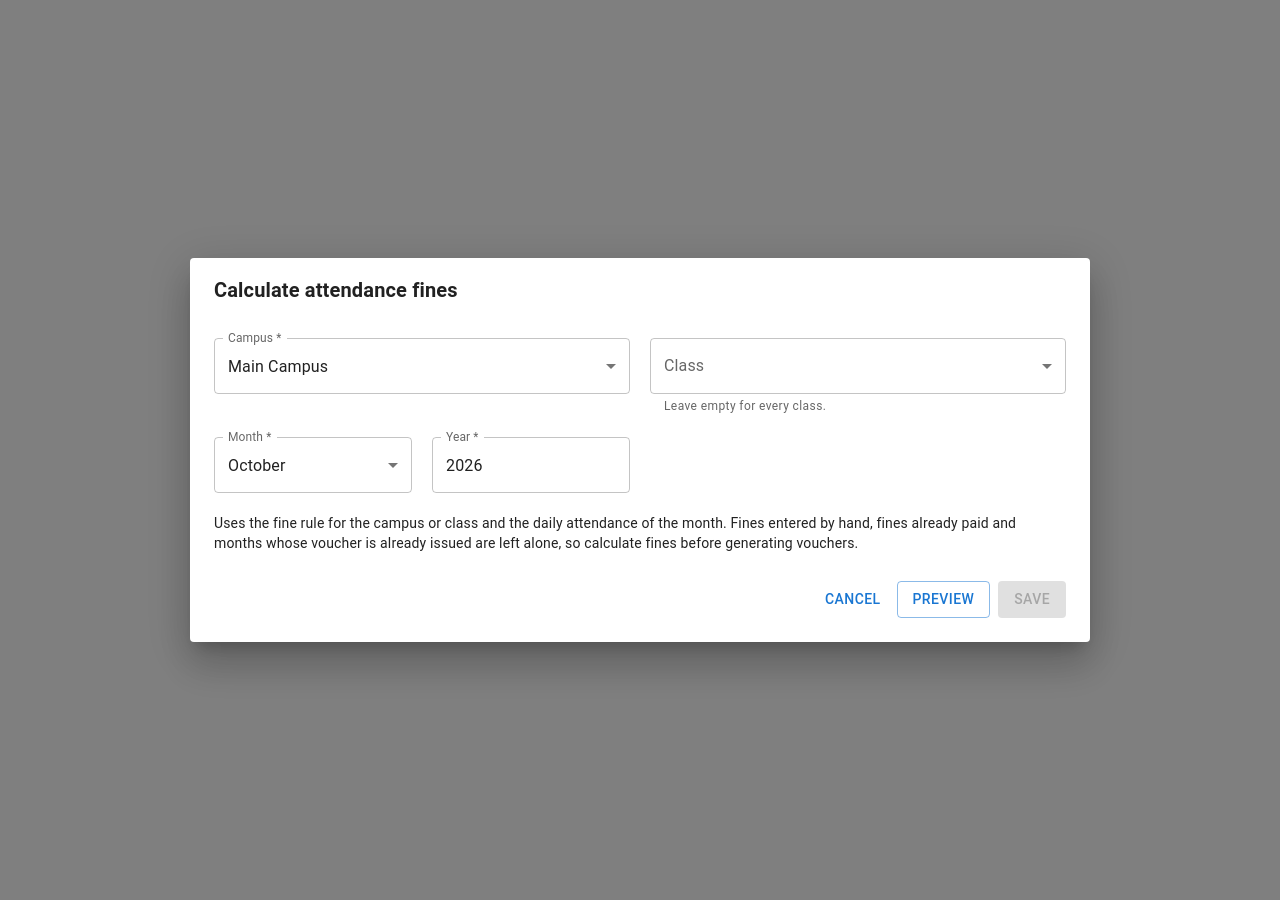
Test case: CalculateFinesDialog › saves only after a preview, then shows the report and reloads the list
This screenshot has width=1280, height=900.
Click the button "Preview". click: click(943, 599)
box: [896, 581, 990, 618]
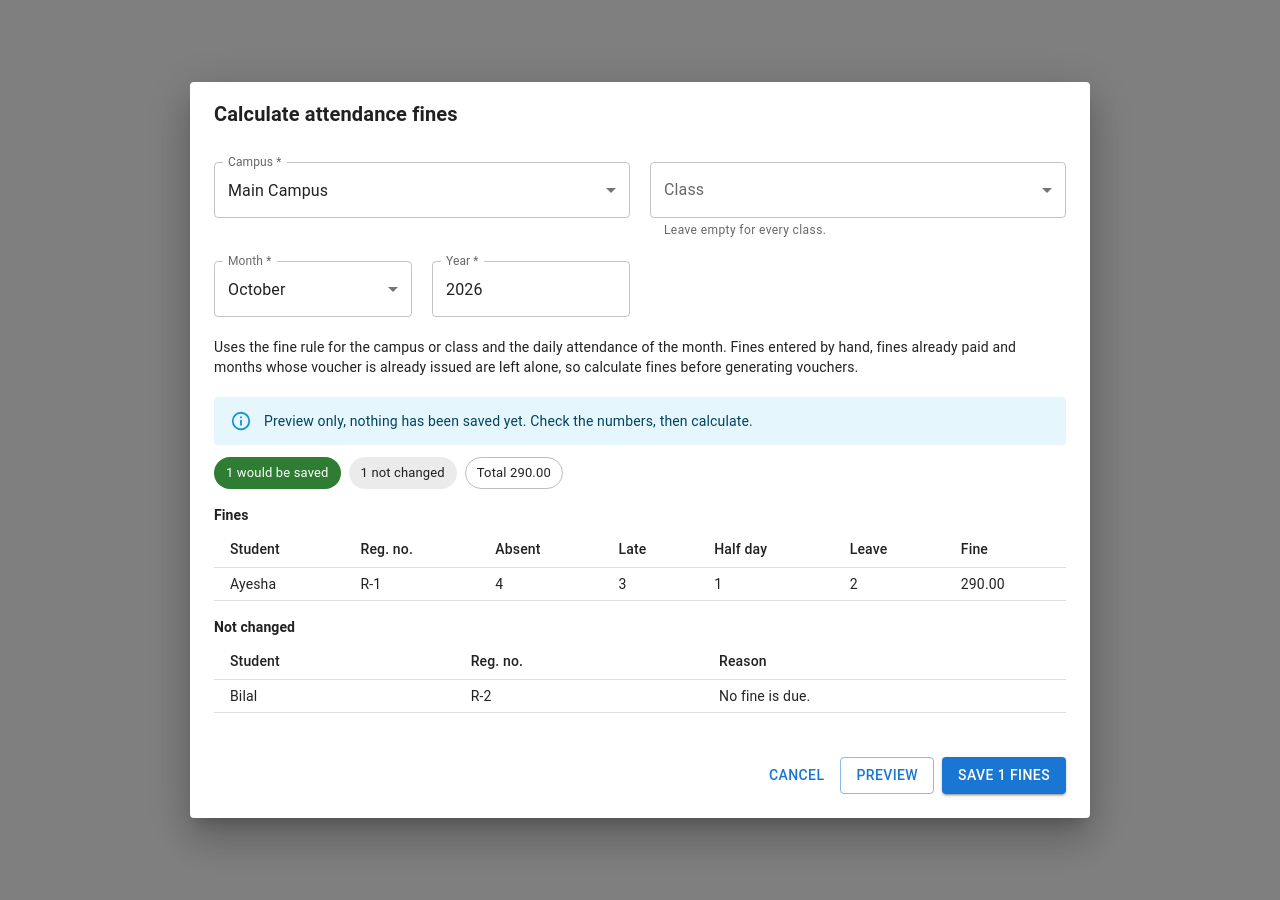
Click the button "Save 1 fines". click: click(1004, 775)
box: [942, 757, 1066, 794]
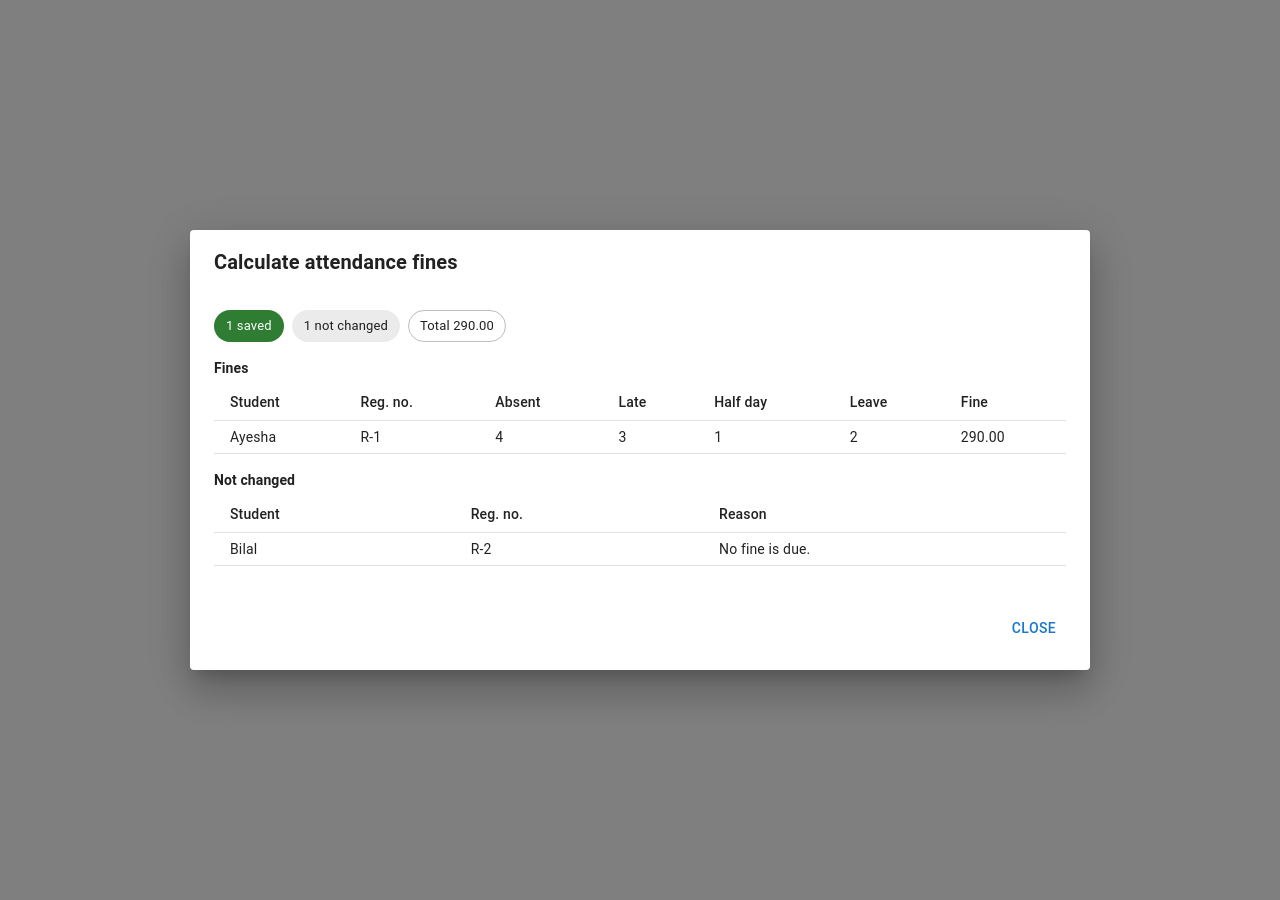
Check: the text "1 saved" is shown, box [226, 318, 272, 333]
Check: the text "Preview" is gone
